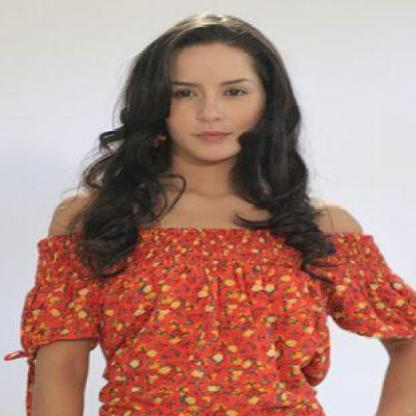long-hair: (95, 162, 314, 210)
